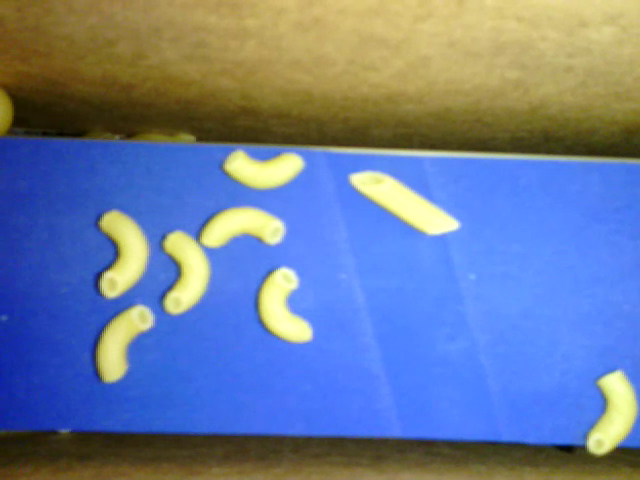elbow: (97, 208, 150, 299), (93, 304, 153, 384), (160, 231, 213, 319), (256, 266, 315, 344), (588, 369, 637, 458), (197, 206, 289, 249), (220, 148, 307, 191)
penne: (347, 170, 463, 242)
